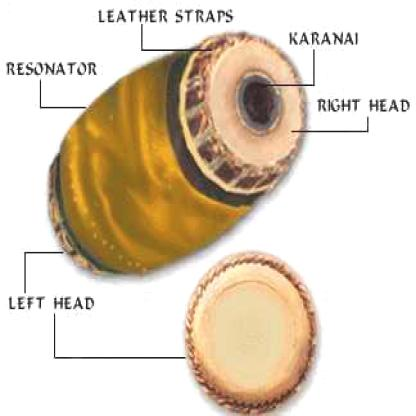Mridangam: (37, 32, 314, 287)
